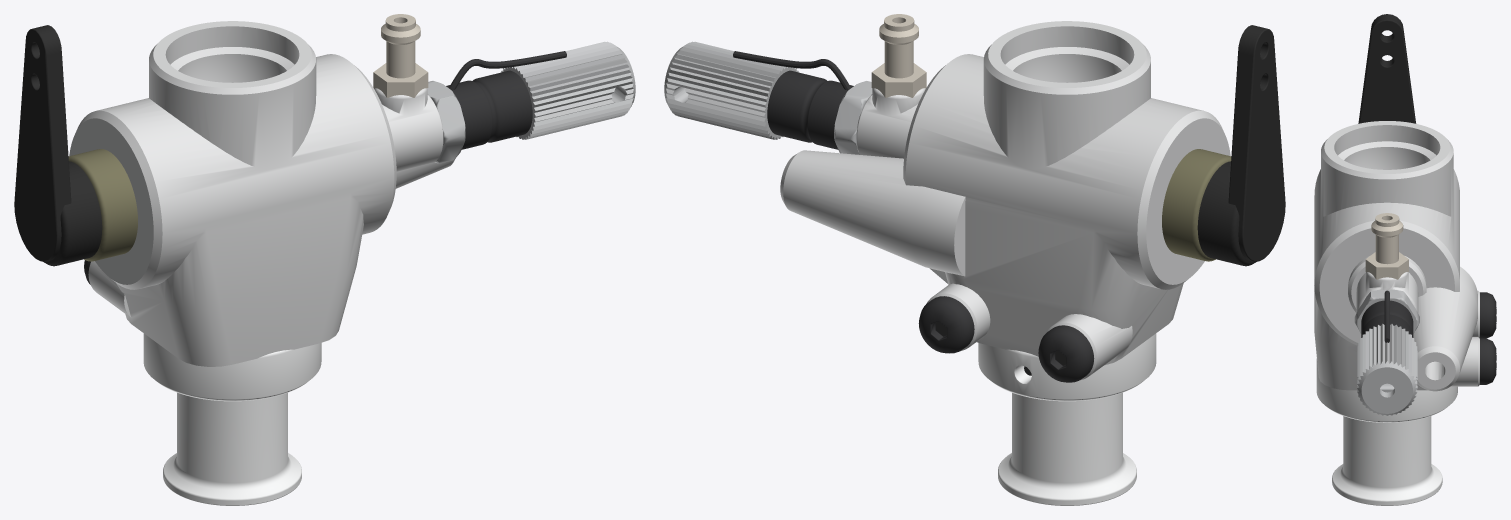
The model's file is carburetor_modern.glb.
3 renders of one model, left to right at view 1: azimuth 30°, elevation 25°; view 2: azimuth 150°, elevation 25°; view 3: azimuth 270°, elevation 25°, orthographic. The views are drawn at different scales.
Parts seen in each view (by area): view 1: CARB_Body, CARB_Spigot, CARB_Throttle_Arm, CARB_Needle_Knob, CARB_Collar, CARB_Needle_Sleeve, CARB_Barrel_Seal, CARB_Needle_Holder, CARB_Arm_Hub, CARB_Fuel_Nipple, CARB_Needle_LockNut, CARB_Needle_Spring; view 2: CARB_Body, CARB_Spigot, CARB_Throttle_Arm, CARB_Needle_Knob, CARB_Collar, CARB_Needle_Sleeve, CARB_Barrel_Seal, CARB_Needle_Holder, CARB_Arm_Hub, CARB_Fuel_Nipple, CARB_Mount_Screw_2, CARB_Mount_Screw_1 (+2 smaller); view 3: CARB_Body, CARB_Spigot, CARB_Needle_Knob, CARB_Throttle_Arm, CARB_Collar, CARB_Fuel_Nipple, CARB_Needle_Holder, CARB_Needle_Sleeve, CARB_Needle_LockNut, CARB_Mount_Screw_1, CARB_Mount_Screw_2, CARB_Needle_Spring.
Boxes of the visible parts, x1=… form: CARB_Body: x1=69, y1=21, x2=455, y2=366; CARB_Spigot: x1=163, y1=392, x2=301, y2=505; CARB_Throttle_Arm: x1=14, y1=25, x2=71, y2=261; CARB_Needle_Knob: x1=501, y1=41, x2=635, y2=139; CARB_Collar: x1=143, y1=333, x2=321, y2=401; CARB_Needle_Sleeve: x1=446, y1=70, x2=532, y2=149; CARB_Barrel_Seal: x1=68, y1=149, x2=137, y2=261; CARB_Needle_Holder: x1=374, y1=88, x2=443, y2=171; CARB_Arm_Hub: x1=43, y1=161, x2=102, y2=266; CARB_Fuel_Nipple: x1=373, y1=14, x2=428, y2=97; CARB_Needle_LockNut: x1=427, y1=81, x2=465, y2=163; CARB_Needle_Spring: x1=449, y1=51, x2=566, y2=90; CARB_Body: x1=780, y1=21, x2=1230, y2=380; CARB_Spigot: x1=998, y1=392, x2=1136, y2=505; CARB_Throttle_Arm: x1=1228, y1=25, x2=1285, y2=261; CARB_Needle_Knob: x1=664, y1=41, x2=798, y2=139; CARB_Collar: x1=978, y1=333, x2=1156, y2=401; CARB_Needle_Sleeve: x1=767, y1=70, x2=853, y2=149; CARB_Barrel_Seal: x1=1162, y1=149, x2=1231, y2=261; CARB_Needle_Holder: x1=856, y1=88, x2=925, y2=158; CARB_Arm_Hub: x1=1197, y1=161, x2=1256, y2=266; CARB_Fuel_Nipple: x1=871, y1=14, x2=926, y2=97; CARB_Mount_Screw_2: x1=918, y1=296, x2=974, y2=353; CARB_Mount_Screw_1: x1=1038, y1=325, x2=1094, y2=382; CARB_Body: x1=1314, y1=121, x2=1479, y2=391; CARB_Spigot: x1=1332, y1=416, x2=1442, y2=505; CARB_Needle_Knob: x1=1357, y1=323, x2=1417, y2=415; CARB_Throttle_Arm: x1=1358, y1=14, x2=1416, y2=123; CARB_Collar: x1=1316, y1=358, x2=1457, y2=422; CARB_Fuel_Nipple: x1=1365, y1=213, x2=1408, y2=279; CARB_Needle_Holder: x1=1356, y1=272, x2=1418, y2=312; CARB_Needle_Sleeve: x1=1361, y1=300, x2=1413, y2=337; CARB_Needle_LockNut: x1=1354, y1=289, x2=1419, y2=333; CARB_Mount_Screw_1: x1=1480, y1=292, x2=1496, y2=338; CARB_Mount_Screw_2: x1=1480, y1=338, x2=1496, y2=384; CARB_Needle_Spring: x1=1384, y1=290, x2=1389, y2=342.
Size of the model in its own units: 0.0625 by 0.0506 by 0.0212.
